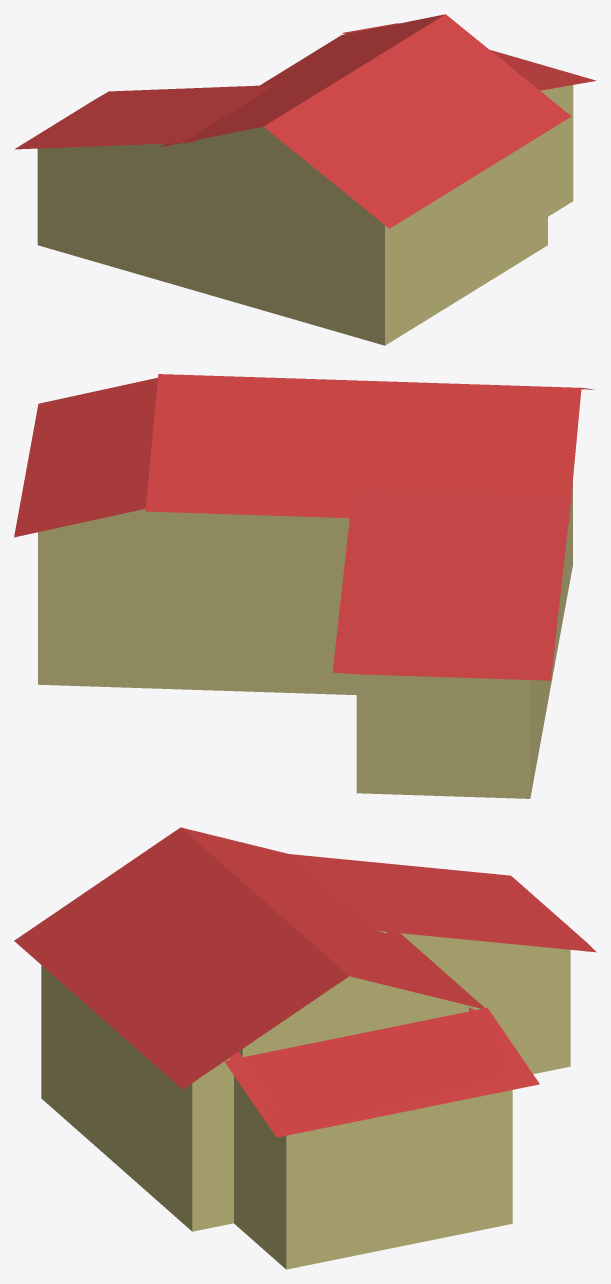
3 views of the same model, one above another, from view 1: azimuth 30°, elevation 25°; view 2: azimuth 150°, elevation 25°; view 3: azimuth 270°, elevation 25° (orthographic). The views are drawn at different scales.
Bounding box in the file's own units: 32.98 × 28.28 × 12.49.
